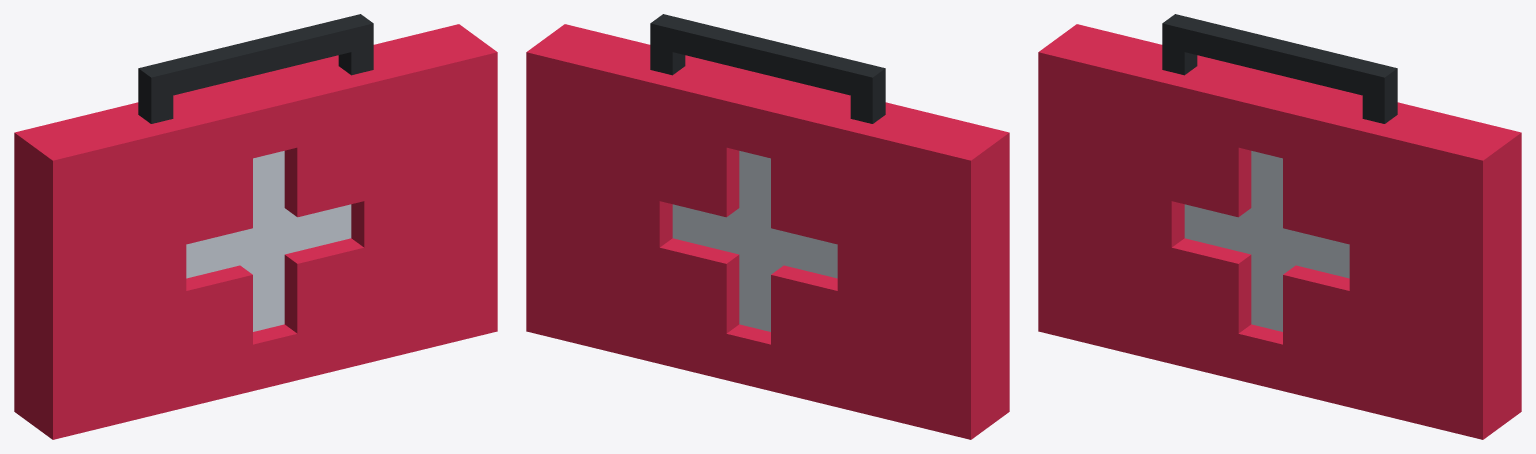
The model's file is medkit.fbx.
The picture shows the model from 3 angles, left to right: view 1: azimuth 30°, elevation 25°; view 2: azimuth 150°, elevation 25°; view 3: azimuth 330°, elevation 25°; orthographic projection.
Visible parts, largest first — view 1: generated; view 2: generated; view 3: generated.
Part boxes in pixels (box(x1,y1,x2,y2)): generated: box(14, 14, 497, 439); generated: box(526, 14, 1009, 439); generated: box(1038, 14, 1521, 439).
Bounding box in the file's own units: 200 × 140 × 30.
